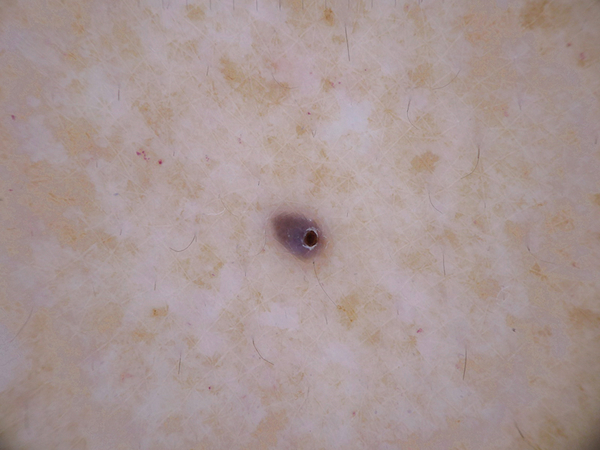Detected Lesion: (263, 203, 333, 265)
